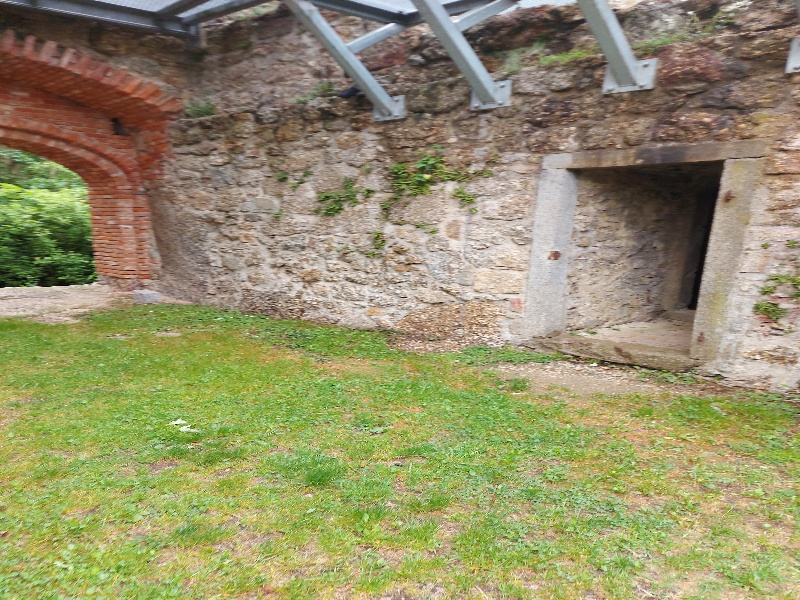door1: (523, 128, 773, 386)
